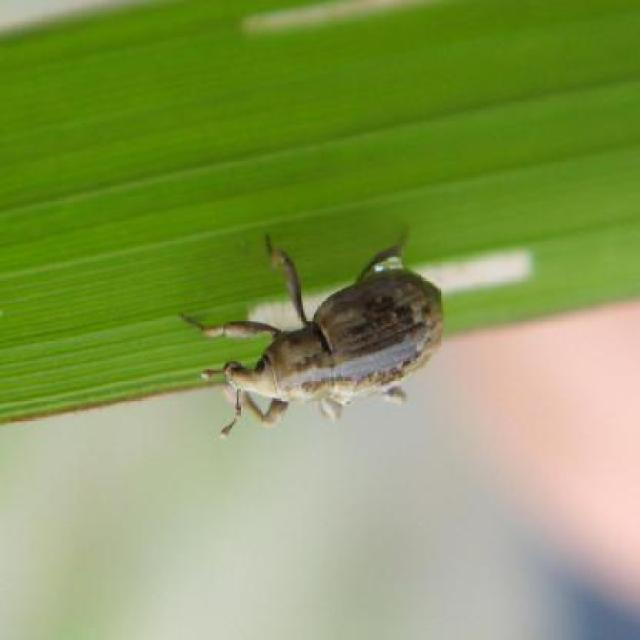rice-bug: (213, 226, 464, 443)
